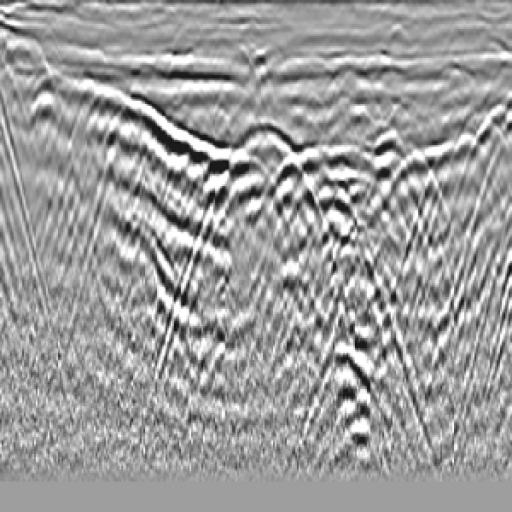metalic: (165, 120, 363, 337)
